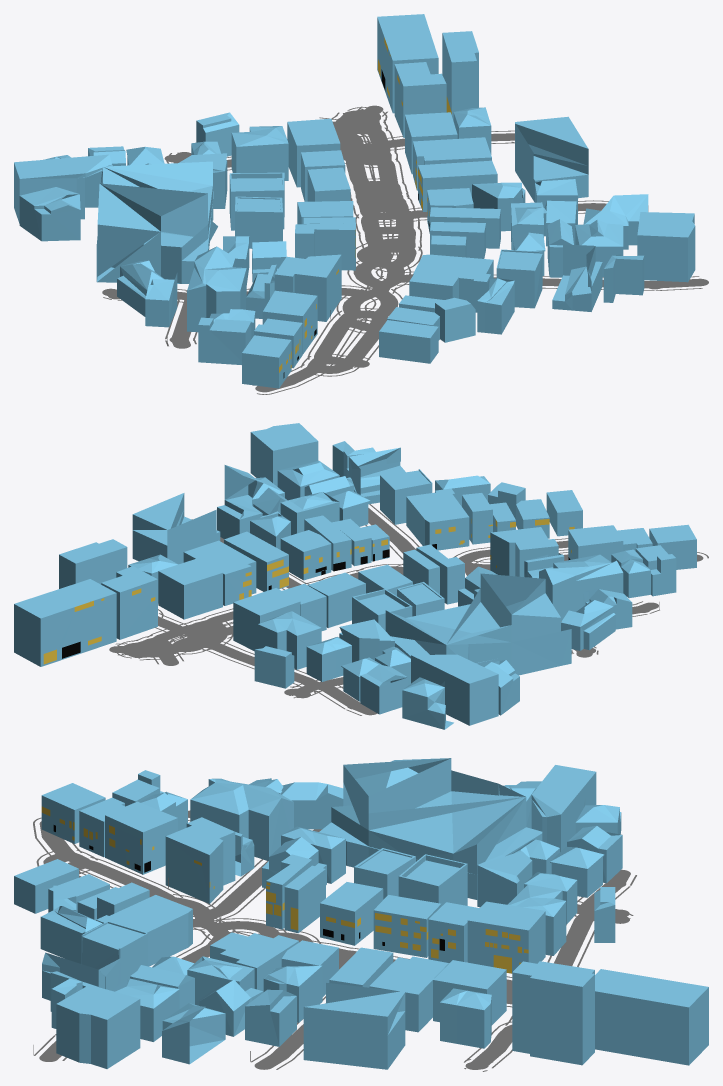
The model's file is results_route1_lod3.obj.
The picture shows the model from 3 angles, top to bottom: view 1: azimuth 30°, elevation 25°; view 2: azimuth 150°, elevation 25°; view 3: azimuth 270°, elevation 25°; orthographic projection. The views are drawn at different scales.
Bounding box in the file's own units: 129 × 17.83 × 143.
